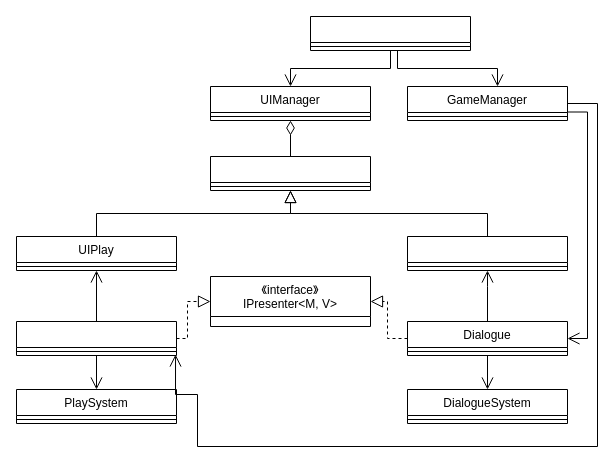
The diagram is 614 pixels wide and 463 high, and some of its shapes have lost their labels. Each missing label, with the centre of its shape:
"Manager" goes at pixel 390 33.
"Play" goes at pixel 96 338.
"UIBase" goes at pixel 290 173.
"UIDialogue" goes at pixel 487 253.
